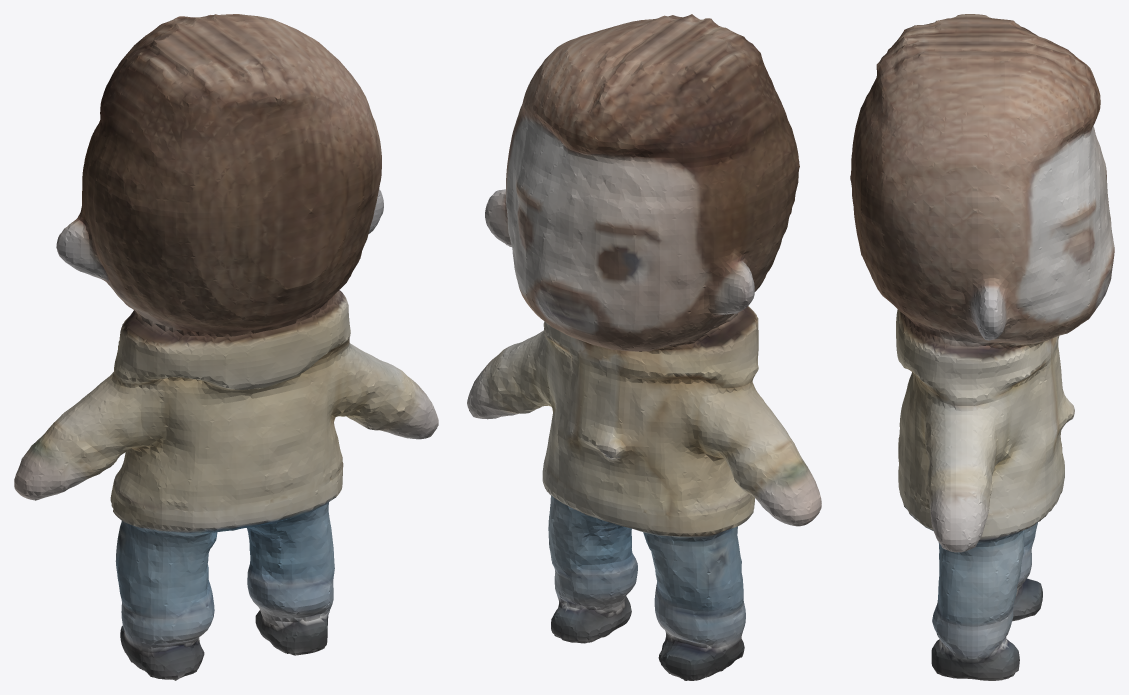
File: kylecasual.glb
The picture shows the model from 3 angles, left to right: view 1: azimuth 30°, elevation 25°; view 2: azimuth 150°, elevation 25°; view 3: azimuth 270°, elevation 25°; orthographic projection. The views are drawn at different scales.
Parts seen in each view (by area): view 1: world; view 2: world; view 3: world.
Boxes of the visible parts, left/top/right/bottom form: world: left=14, top=14, right=438, bottom=680; world: left=467, top=14, right=821, bottom=680; world: left=850, top=14, right=1114, bottom=680.
Size of the model in its own units: 1.29 by 1.99 by 0.7981.
